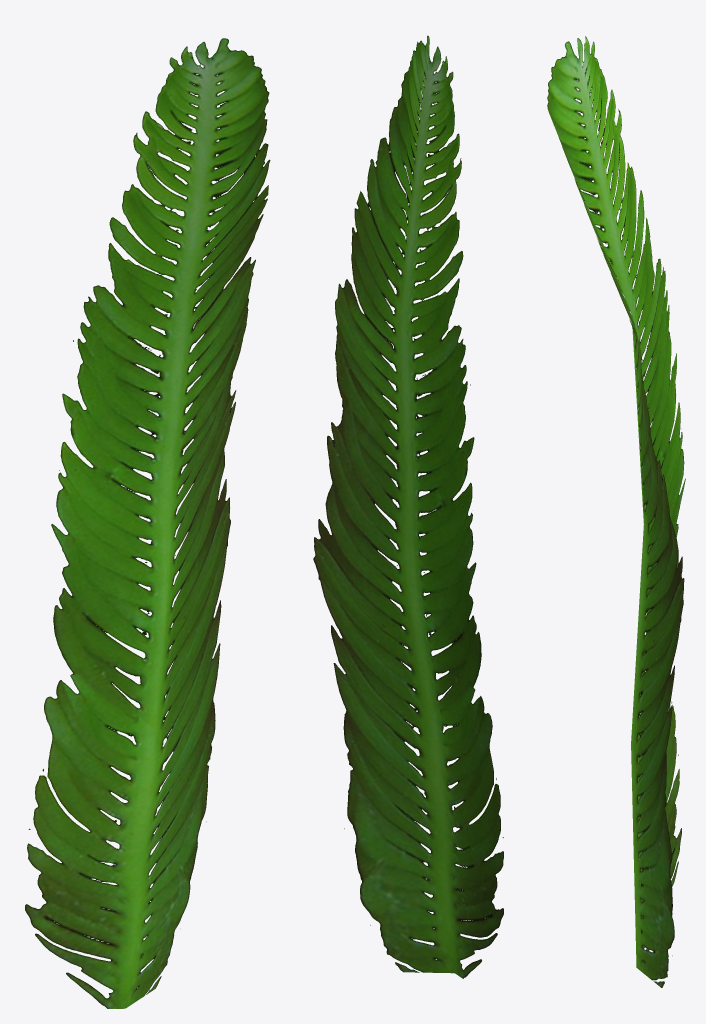
The picture shows the model from 3 angles, left to right: view 1: azimuth 30°, elevation 25°; view 2: azimuth 150°, elevation 25°; view 3: azimuth 270°, elevation 25°; orthographic projection. The views are drawn at different scales.
Visible parts, largest first — view 1: Caulerpa_Taxifolia.004; view 2: Caulerpa_Taxifolia.004; view 3: Caulerpa_Taxifolia.004.
Boxes of the visible parts, x1,y1,x2,y2 form: Caulerpa_Taxifolia.004: [25, 38, 270, 1008]; Caulerpa_Taxifolia.004: [313, 35, 503, 978]; Caulerpa_Taxifolia.004: [547, 36, 685, 987].
Bounding box in the file's own units: 0.0301 × 0.1289 × 0.0185.
Materials: 1 (1 with a texture image).
